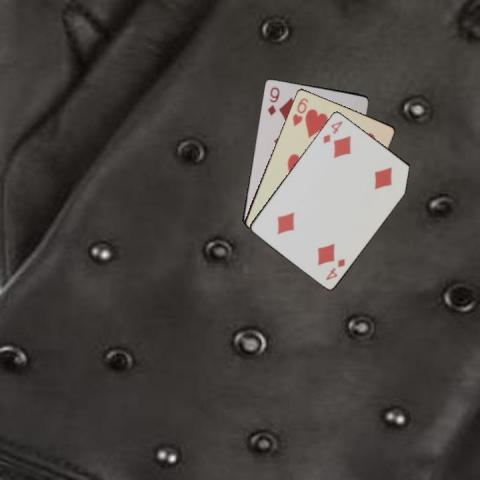4d: (322, 255, 347, 282), (320, 117, 344, 145)
6h: (289, 95, 310, 127)
9d: (264, 83, 281, 117)
